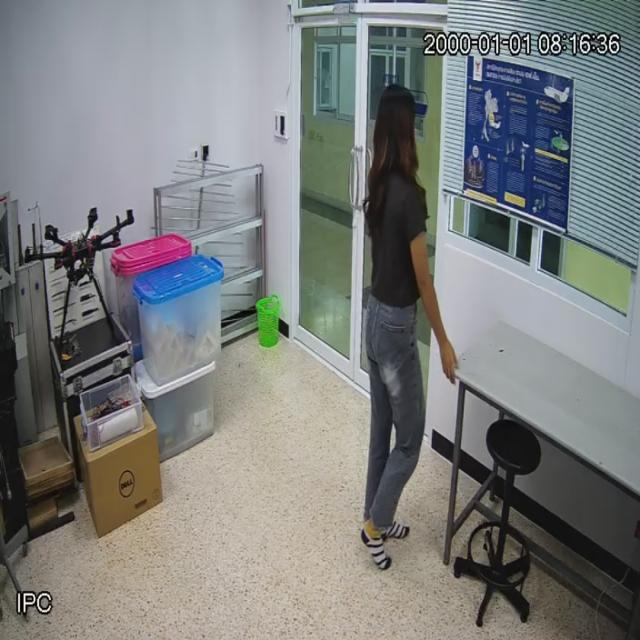normal: (365, 86, 445, 540)
